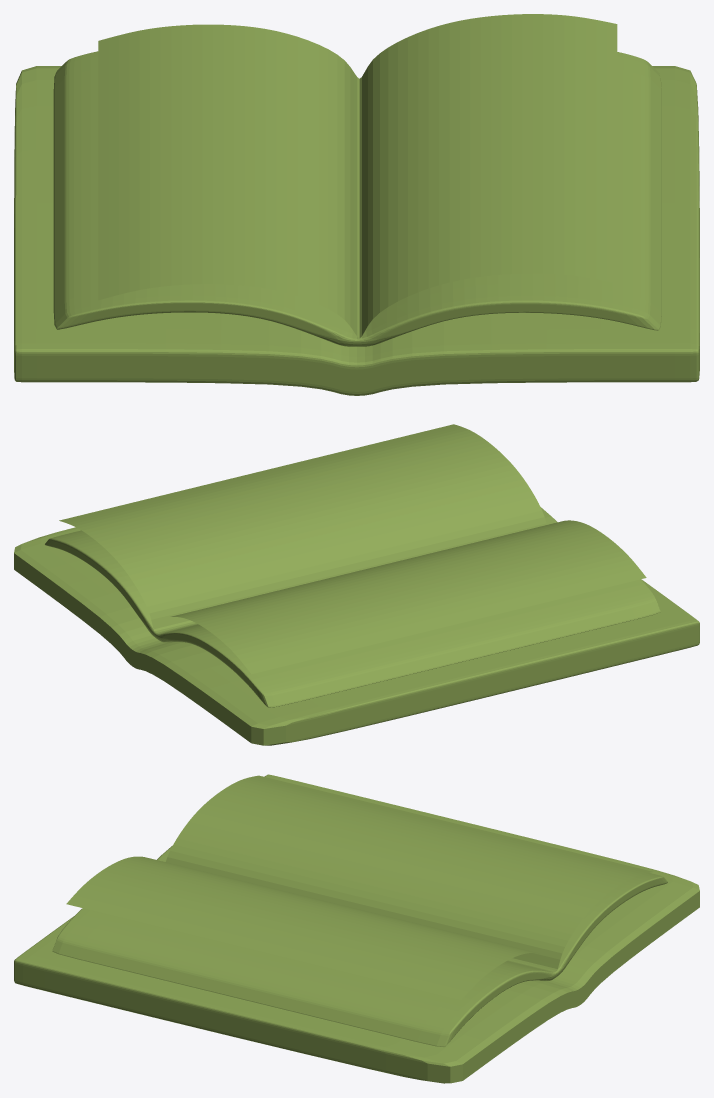
The model's file is Book2.glb.
3 renders of one model, top to bottom at view 1: azimuth 30°, elevation 25°; view 2: azimuth 150°, elevation 25°; view 3: azimuth 270°, elevation 25°, orthographic. The views are drawn at different scales.
Parts seen in each view (by area): view 1: polySurface5, polySurface1, polySurface4; view 2: polySurface5, polySurface1, polySurface4; view 3: polySurface5, polySurface1, polySurface4.
Part boxes in pixels (x1=…): polySurface5: x1=98, y1=14, x2=617, y2=338; polySurface1: x1=14, y1=66, x2=699, y2=395; polySurface4: x1=53, y1=51, x2=661, y2=346; polySurface5: x1=59, y1=424, x2=646, y2=674; polySurface1: x1=14, y1=507, x2=699, y2=745; polySurface4: x1=45, y1=530, x2=660, y2=707; polySurface5: x1=66, y1=775, x2=653, y2=1000; polySurface1: x1=14, y1=774, x2=699, y2=1083; polySurface4: x1=52, y1=873, x2=667, y2=1046.
Bounding box in the file's own units: 90.32 × 11.79 × 90.5.
